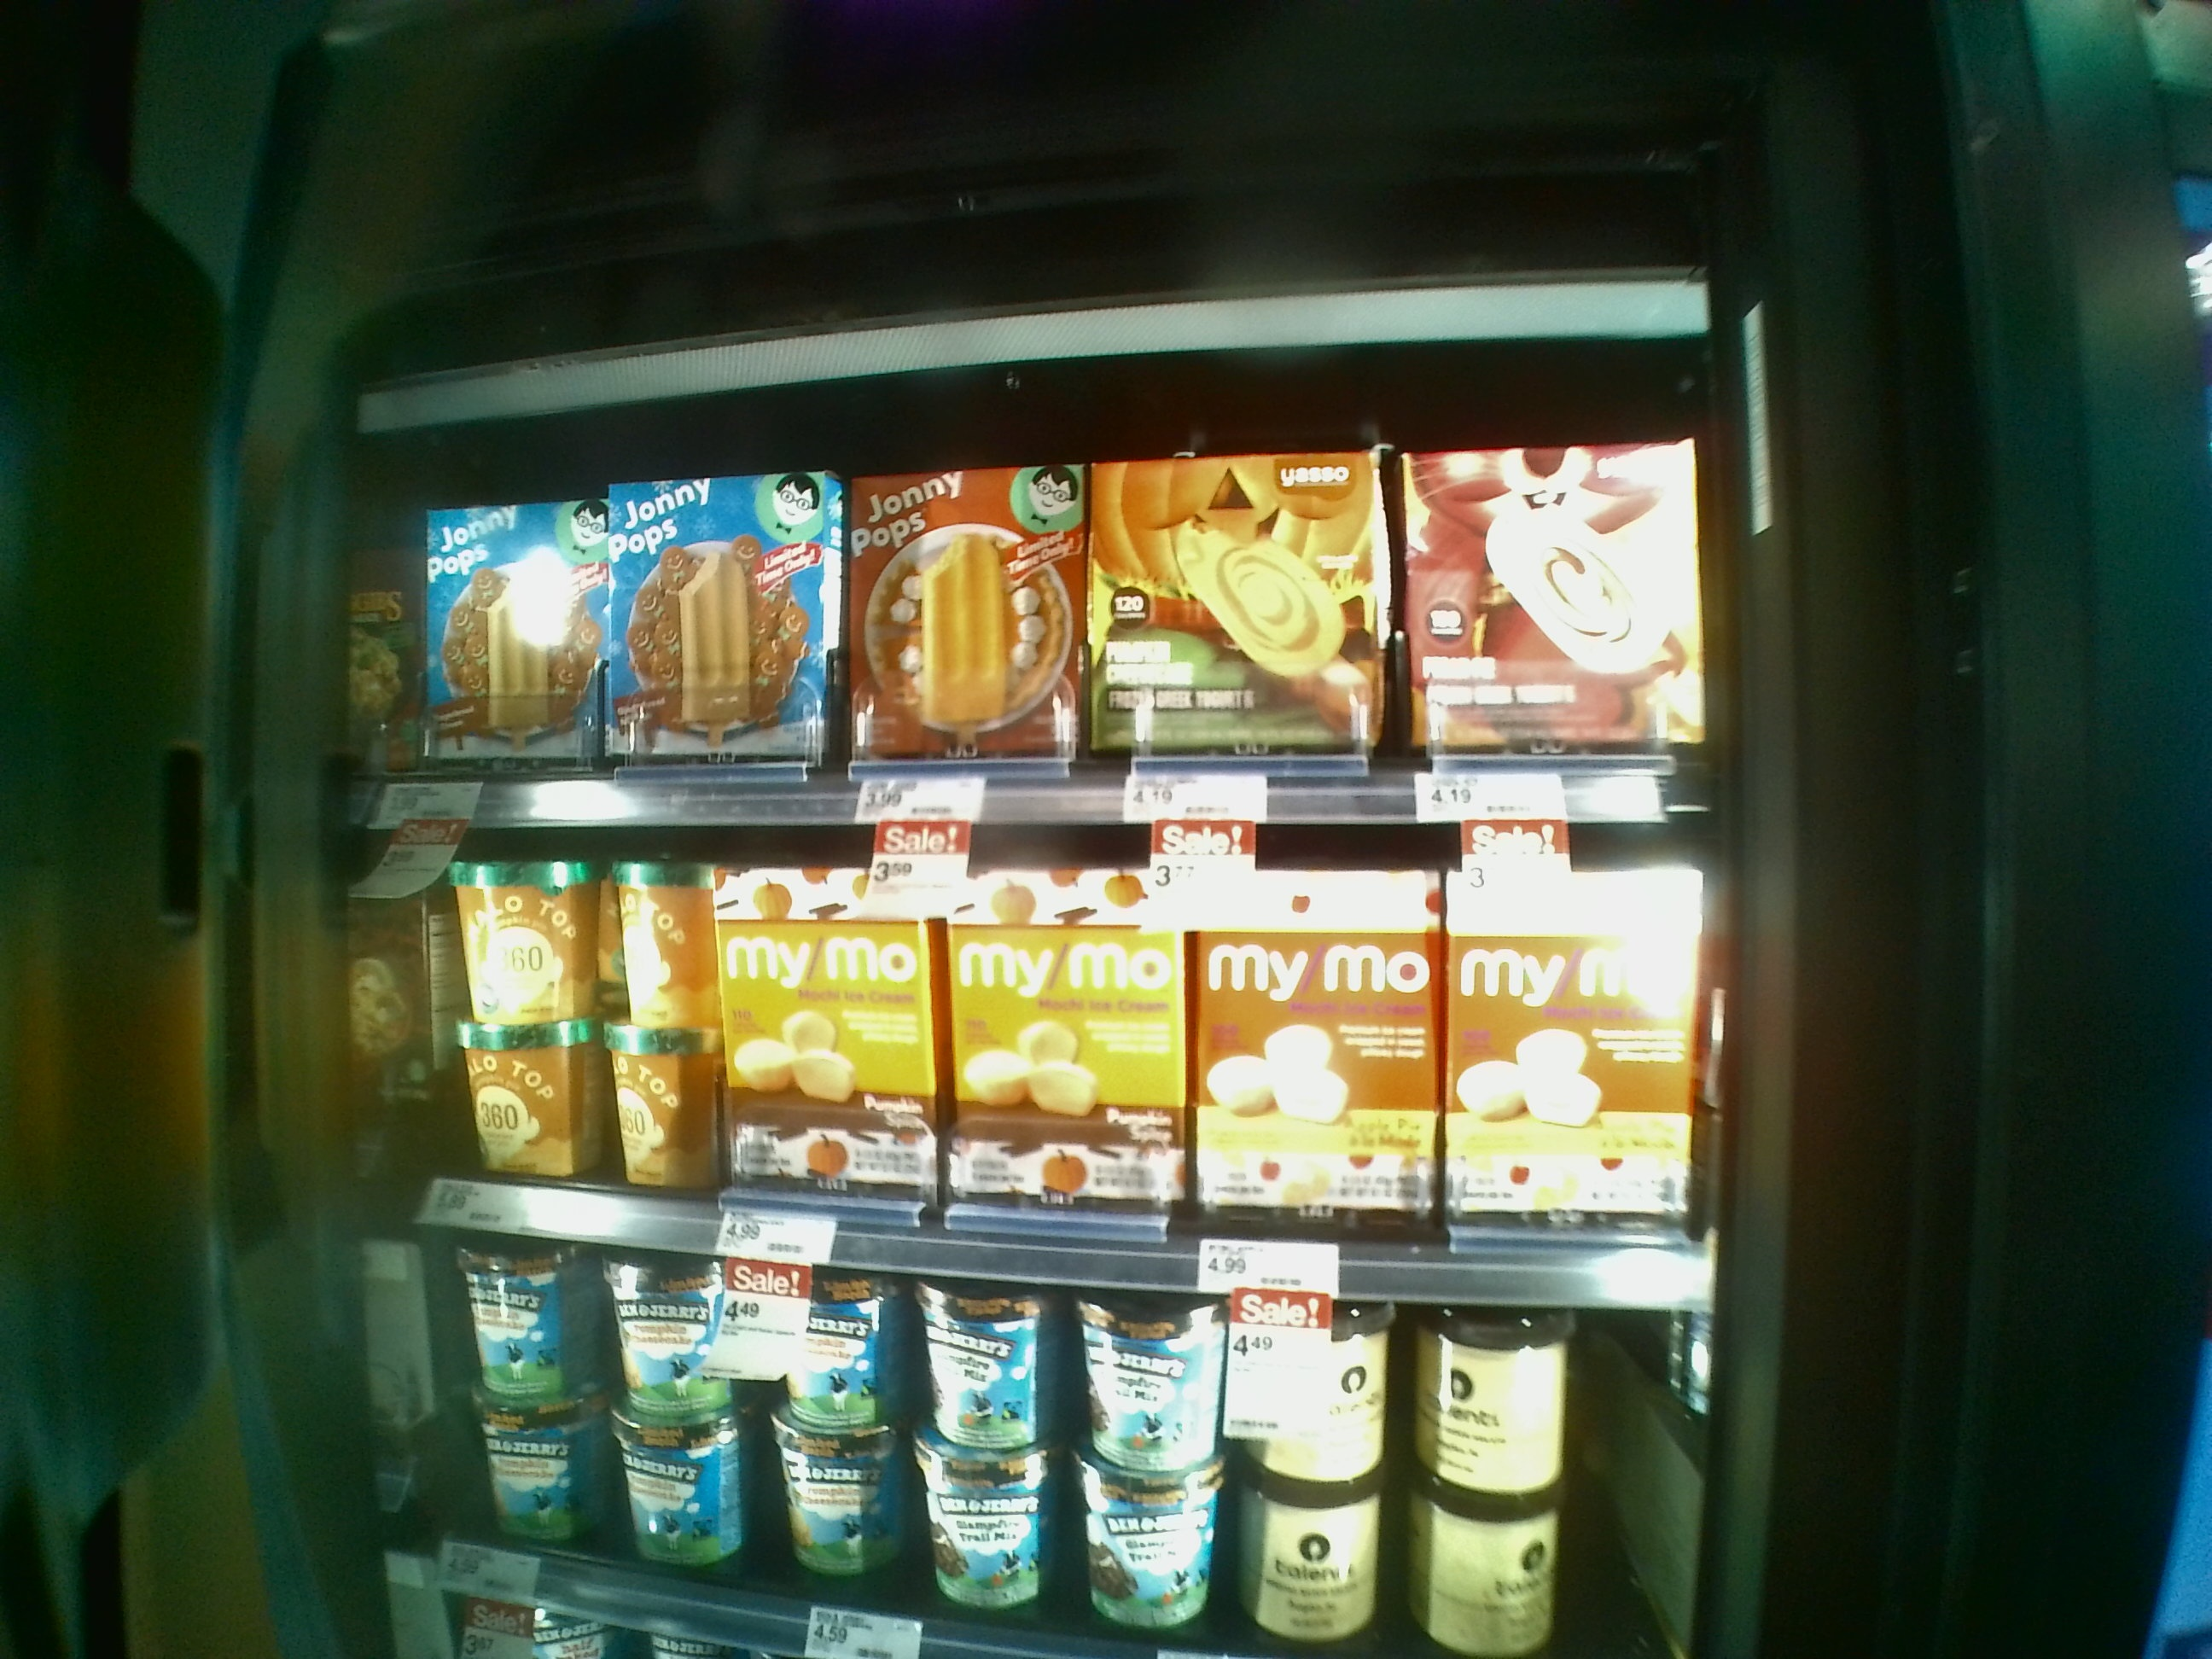shelf: (369, 796, 1695, 1300), (383, 422, 1712, 812)
